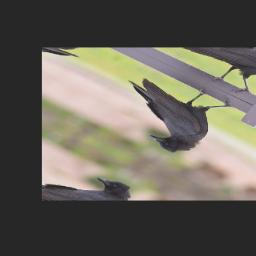Crow: (87, 62, 247, 159)
